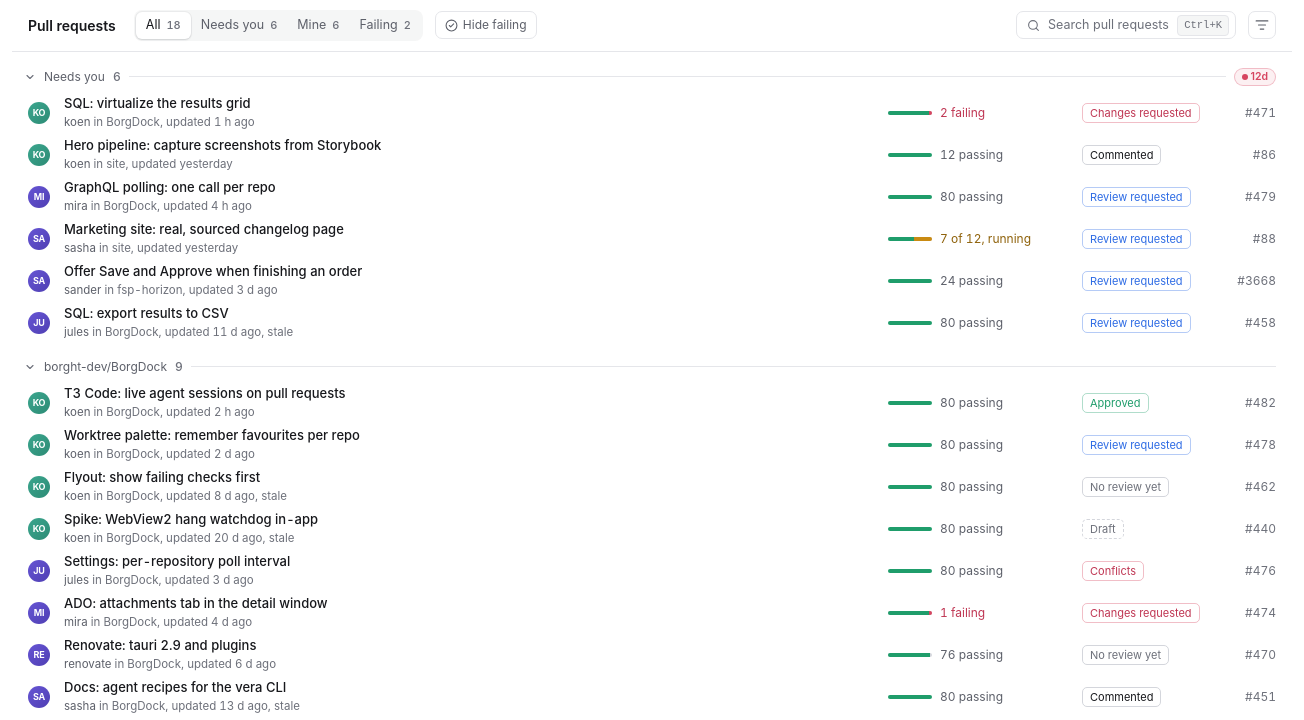
Scenario: PrList › marks the current grouping and sort in the menu
Click the button named "Group and sort" at [1262, 25], box [1248,11,1276,39]
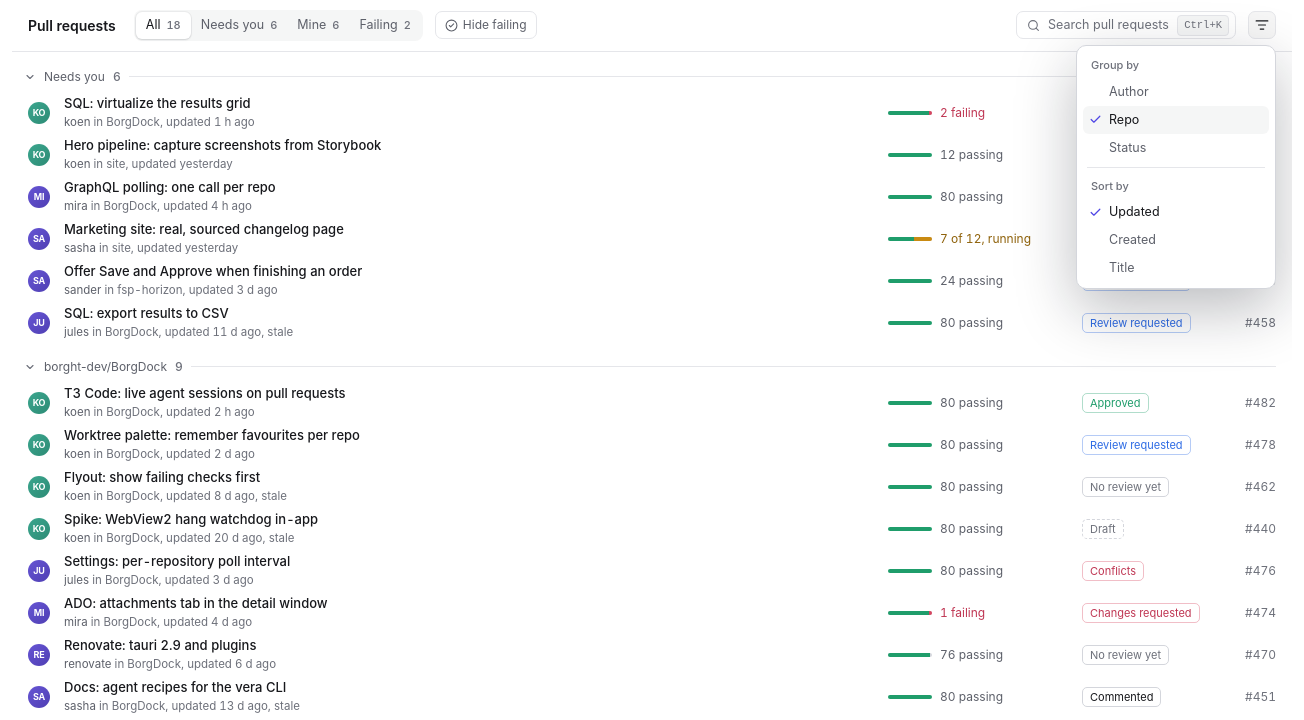
Press Escape in the menu item "Repo", box [1083,106,1269,134]
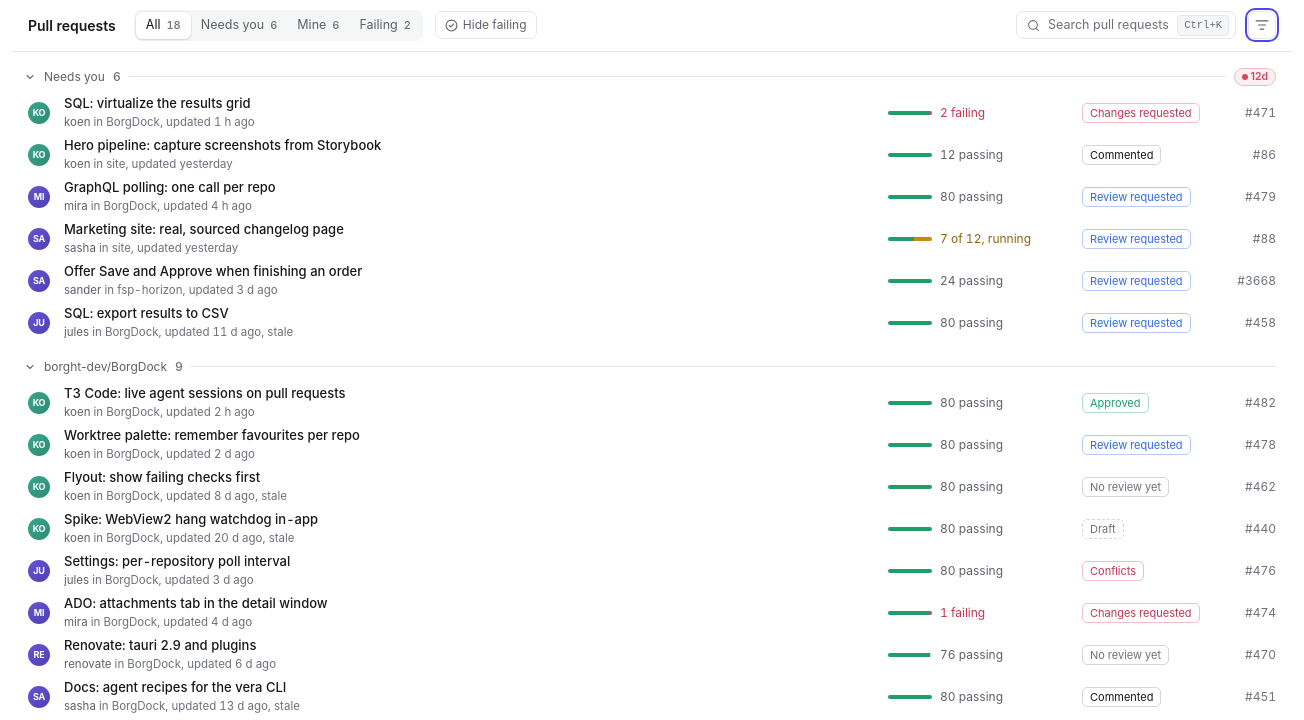
Check: the menu is gone
